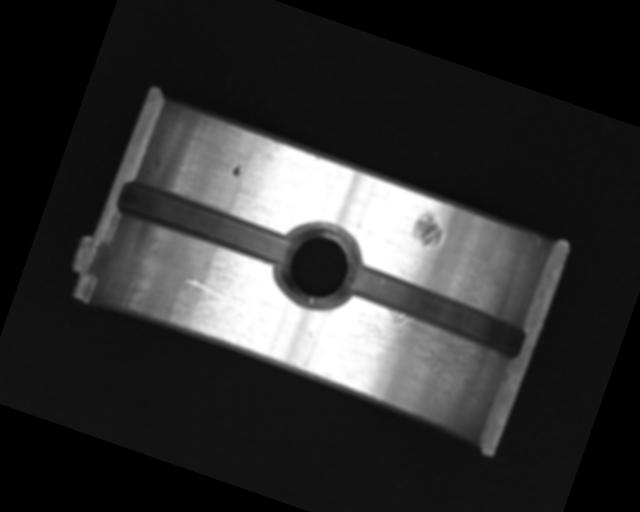bruise: (409, 207, 450, 253), (230, 160, 244, 179)
gap: (339, 260, 530, 362), (114, 178, 296, 271)
hole: (268, 211, 370, 320)
nick: (180, 276, 244, 309)
scratch: (319, 290, 500, 417)
